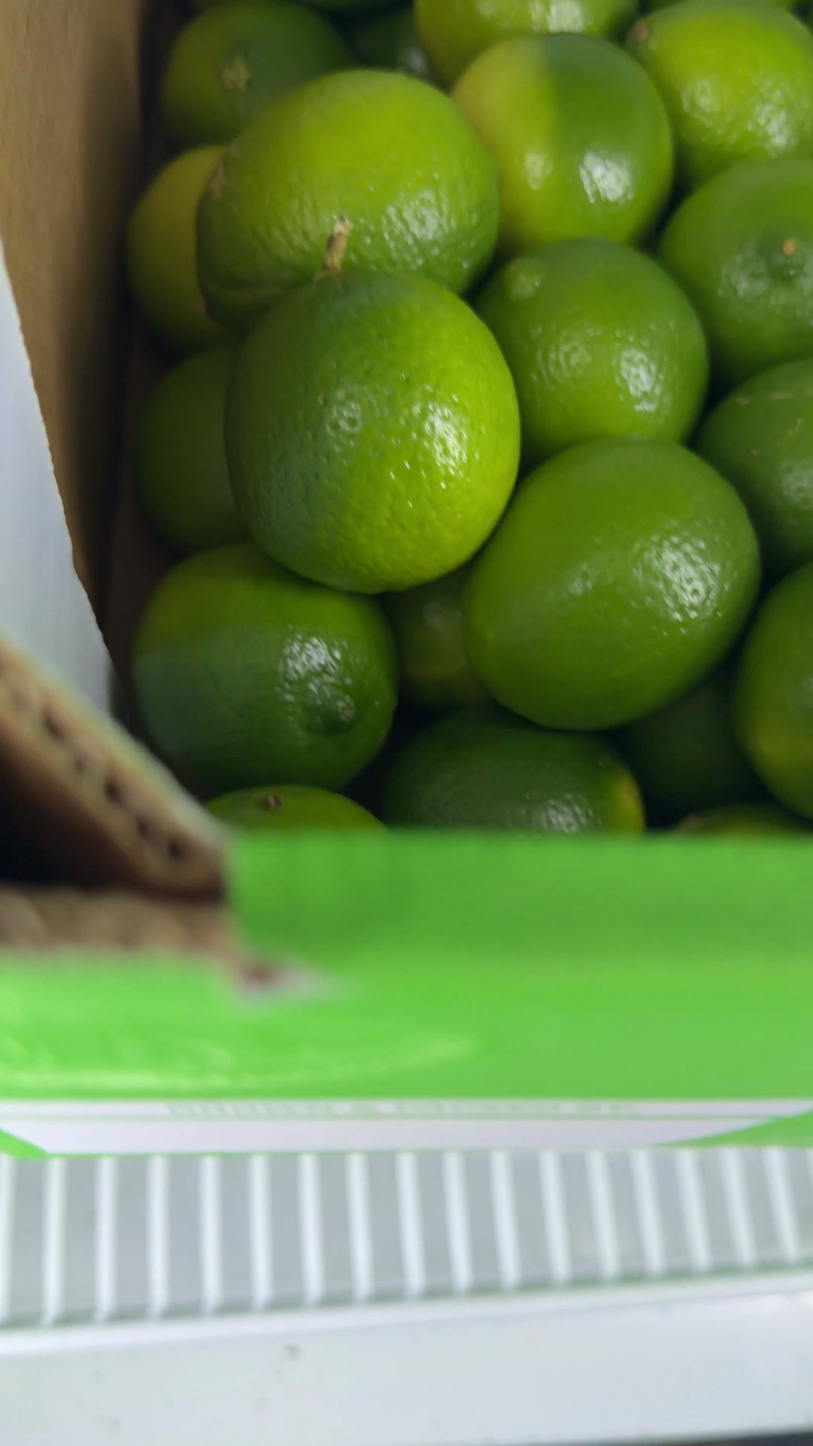lime: (226, 273, 519, 593), (464, 440, 759, 729), (198, 69, 498, 329), (131, 544, 397, 795), (477, 238, 708, 465), (454, 34, 673, 255), (628, 0, 813, 189), (660, 158, 813, 385), (382, 705, 644, 834), (161, 0, 355, 146), (696, 357, 813, 576), (134, 346, 247, 555), (617, 669, 763, 822), (127, 147, 224, 355), (734, 564, 813, 818), (416, 0, 637, 85), (384, 568, 487, 712), (207, 785, 382, 832), (350, 4, 434, 82), (675, 803, 806, 838), (754, 0, 798, 10)
